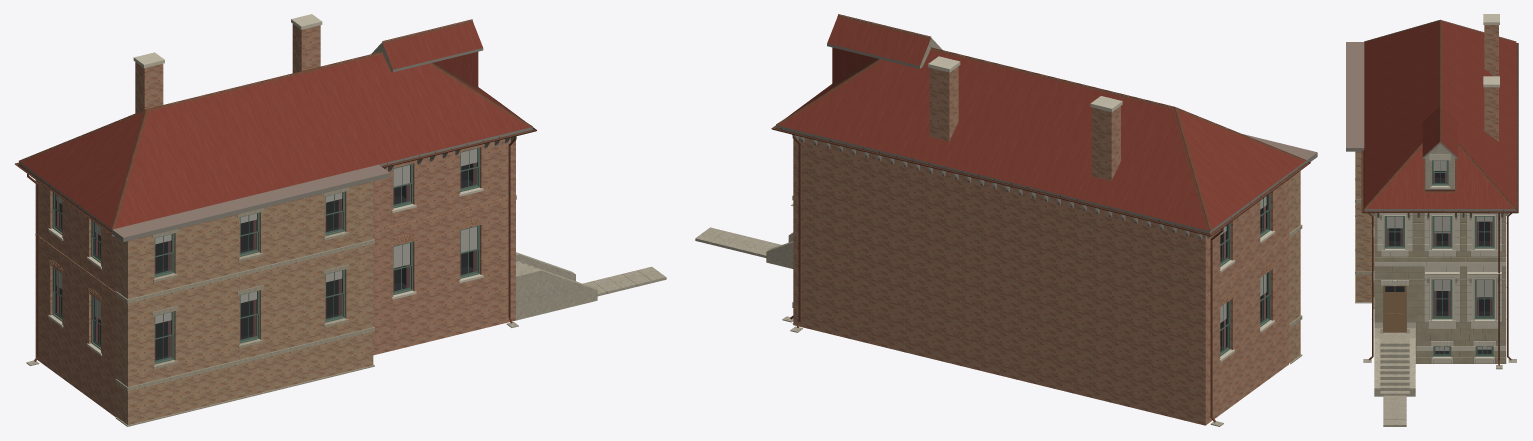
File: house_2001_prairie__as_mapped_1904.glb
The picture shows the model from 3 angles, left to right: view 1: azimuth 30°, elevation 25°; view 2: azimuth 150°, elevation 25°; view 3: azimuth 270°, elevation 25°; orthographic projection. The views are drawn at different scales.
Parts seen in each view (by area): view 1: house_2001_prairie__as_mapped_1904; view 2: house_2001_prairie__as_mapped_1904; view 3: house_2001_prairie__as_mapped_1904.
Part boxes in pixels (x1,y1,x2,y2): house_2001_prairie__as_mapped_1904: (15, 14, 666, 426); house_2001_prairie__as_mapped_1904: (695, 14, 1317, 426); house_2001_prairie__as_mapped_1904: (1346, 14, 1518, 426).
Bounding box in the file's own units: 27.13 × 12.86 × 8.76.
Materials: 25 (14 with a texture image).
